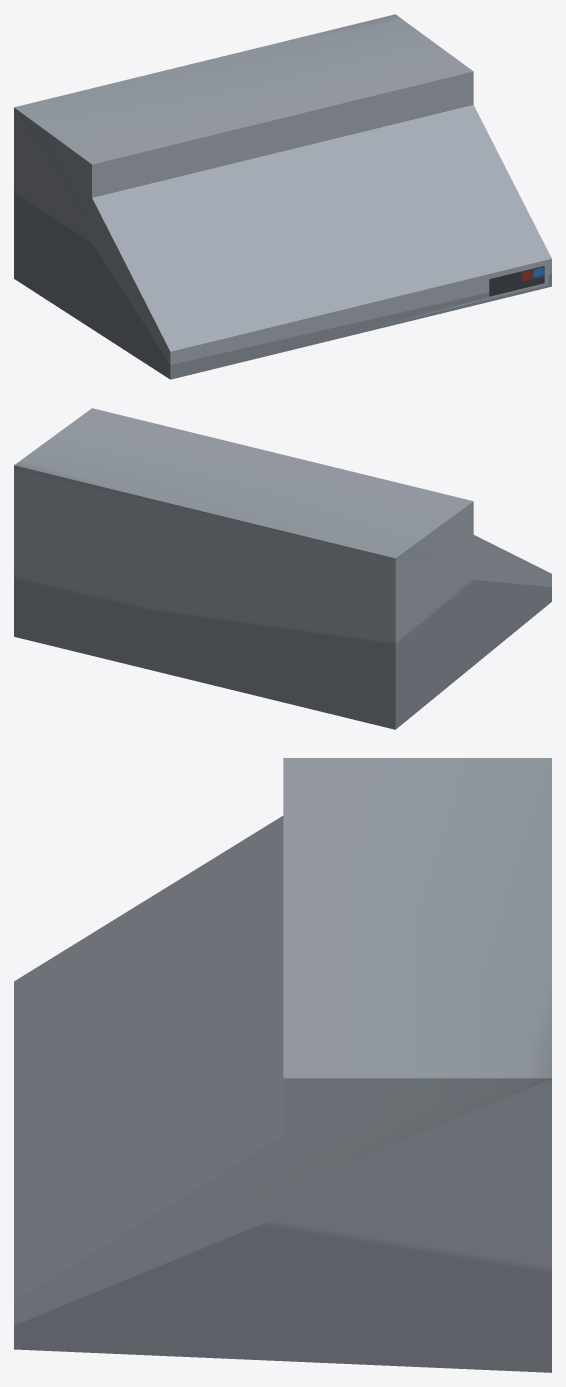
Rendered from SM_Prop_Kitchen_Extractor_01.obj.
3 views of the same model, one above another, from view 1: azimuth 30°, elevation 25°; view 2: azimuth 150°, elevation 25°; view 3: azimuth 270°, elevation 25° (orthographic). The views are drawn at different scales.
Parts seen in each view (by area): view 1: SM_Prop_Kitchen_Extractor_01_0; view 2: SM_Prop_Kitchen_Extractor_01_0; view 3: SM_Prop_Kitchen_Extractor_01_0.
Part boxes in pixels (left/top/right/bottom): SM_Prop_Kitchen_Extractor_01_0: left=14, top=14, right=551, bottom=379; SM_Prop_Kitchen_Extractor_01_0: left=14, top=408, right=551, bottom=729; SM_Prop_Kitchen_Extractor_01_0: left=14, top=758, right=551, bottom=1372.
Size of the model in its own units: 1.57 by 0.6748 by 1.12.
1 material, 1 textured.
